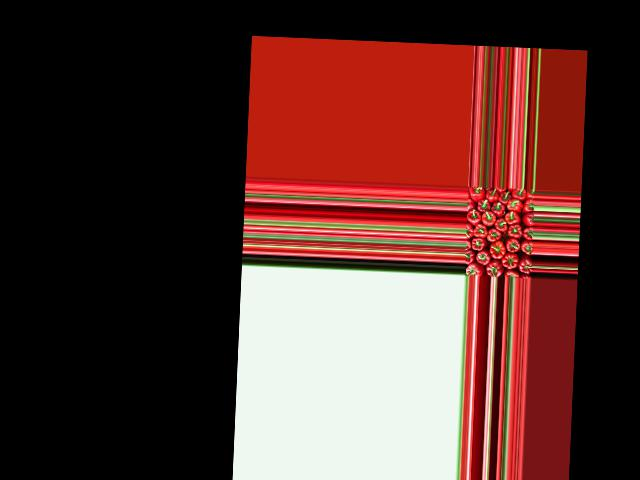bell_pepper: (468, 187, 483, 201)
